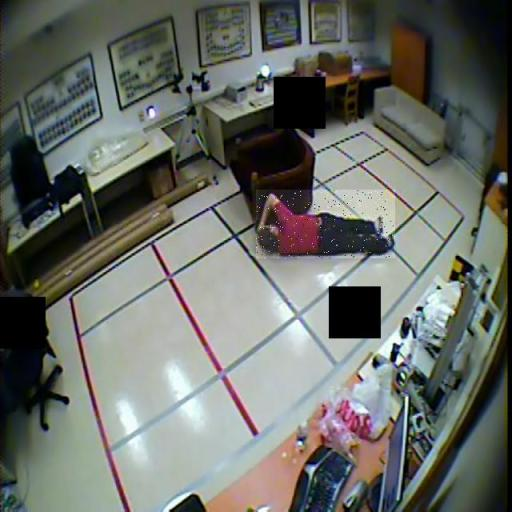Fall: (256, 190, 395, 259)
